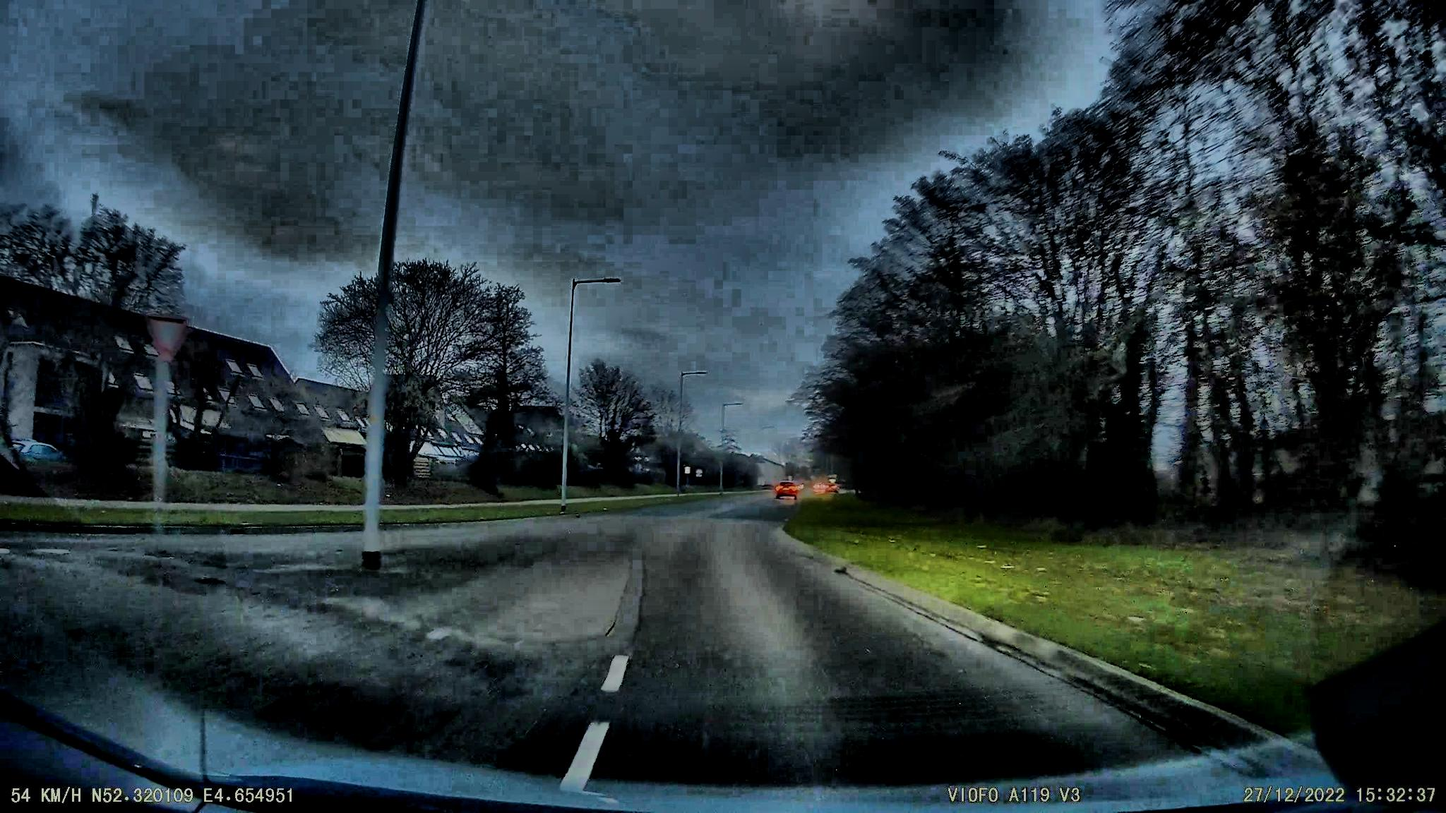Roads: (0, 495, 1446, 813)
